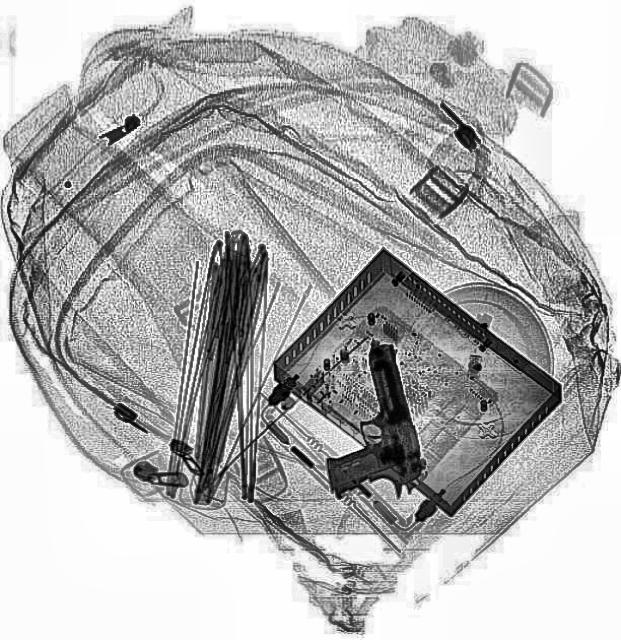Gun: (300, 339, 428, 511)
